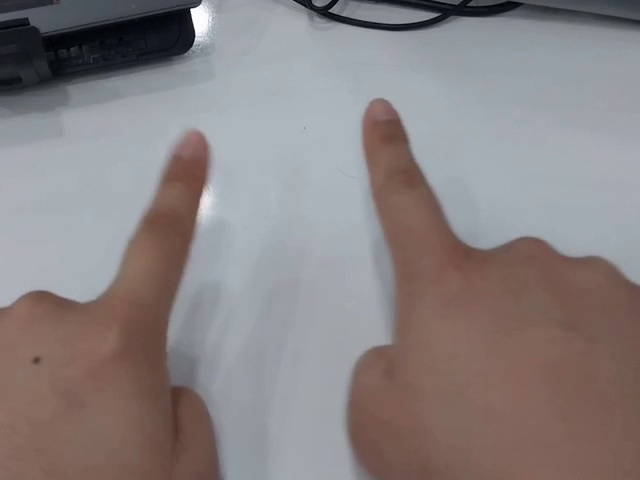fingers: (162, 128, 209, 190), (362, 96, 412, 150)
